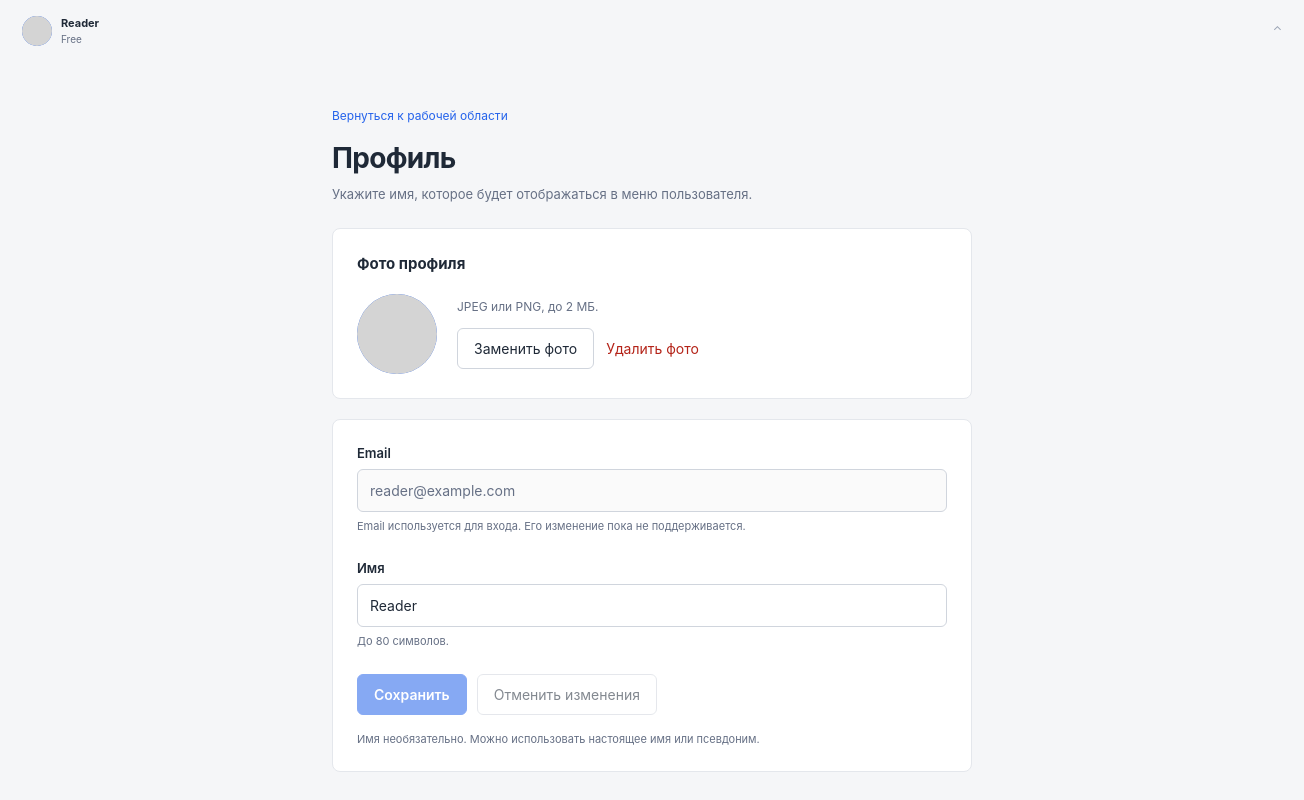
Test: profile avatar UI › removes a photo, updates the menu and keeps hidden profile fields intact
Click the button "Удалить фото" at x=653, y=348, box x1=606 y1=330 x2=699 y2=367
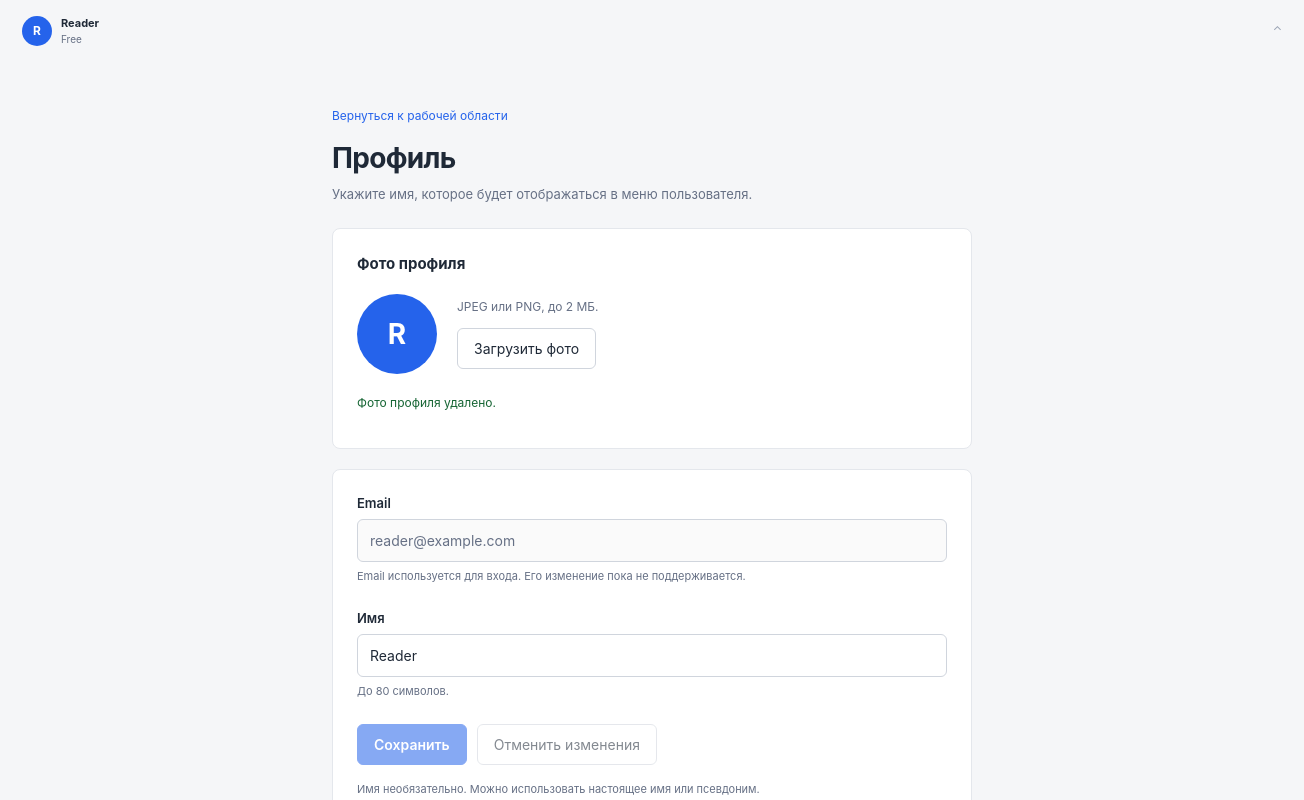
Now the text "Фото профиля удалено." is shown, box x1=357 y1=394 x2=496 y2=410
